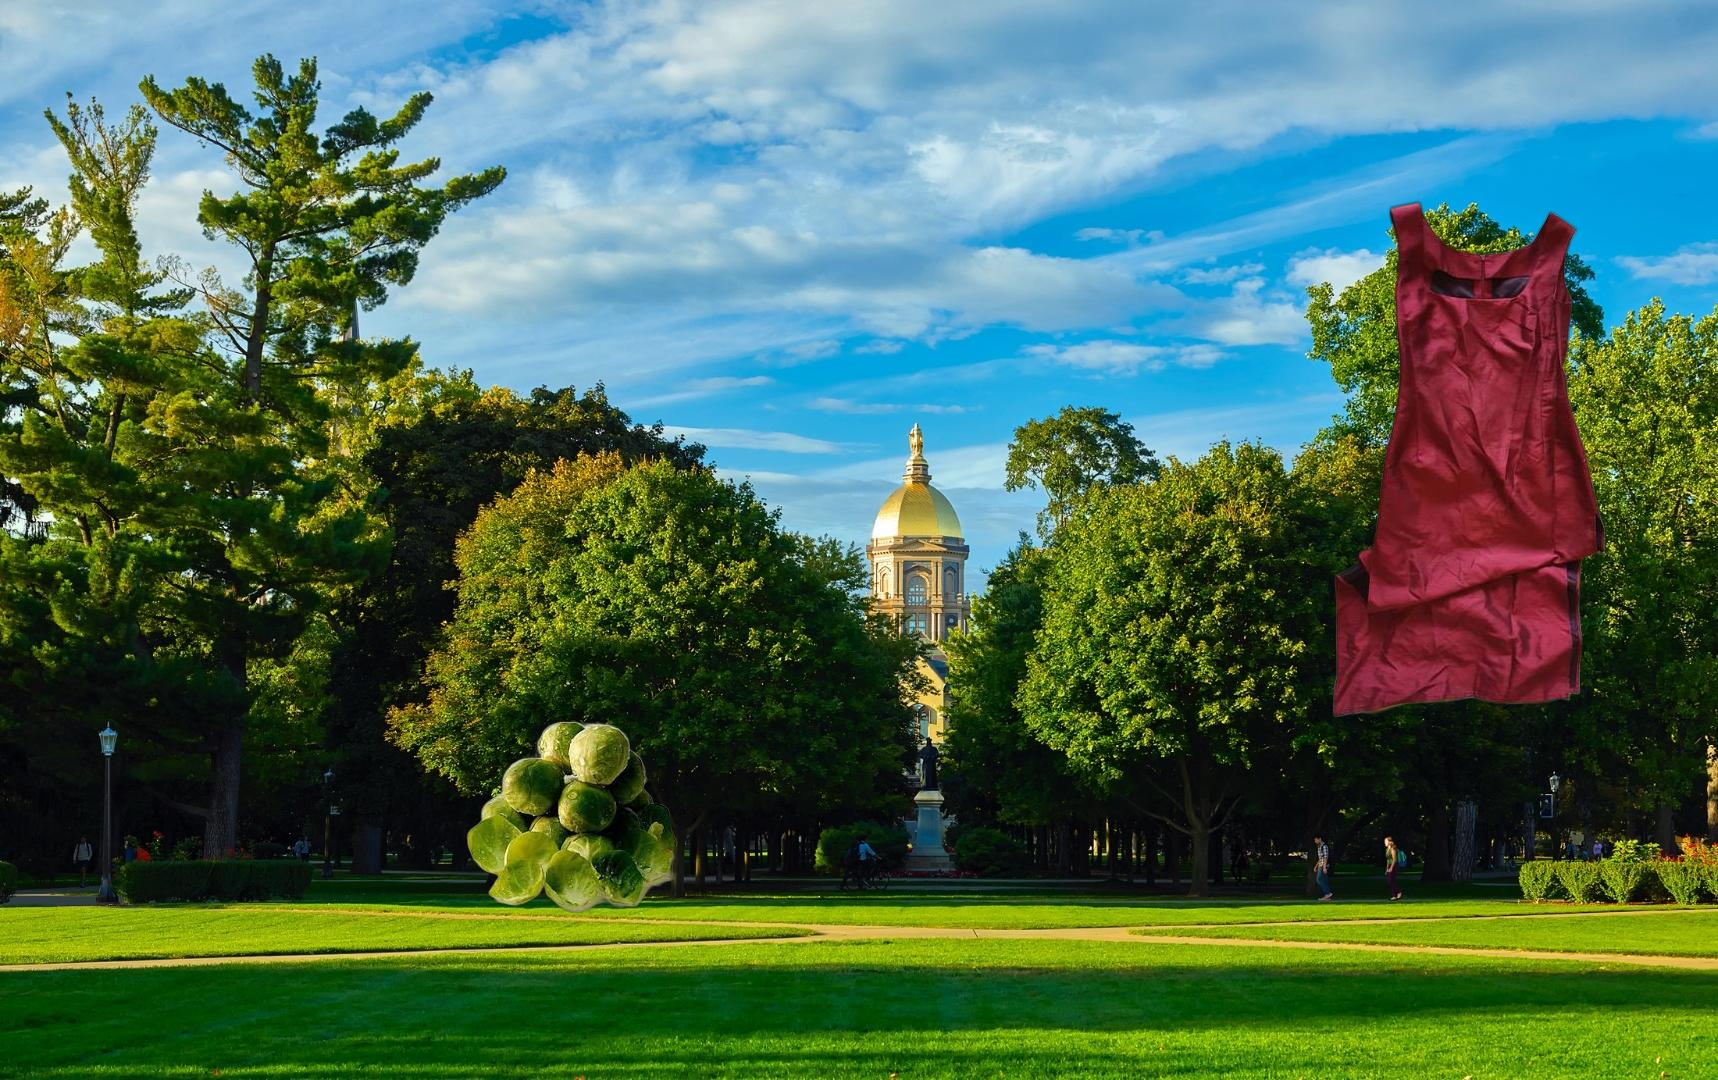biological: (462, 714, 682, 916)
clothes: (1299, 194, 1686, 722)
